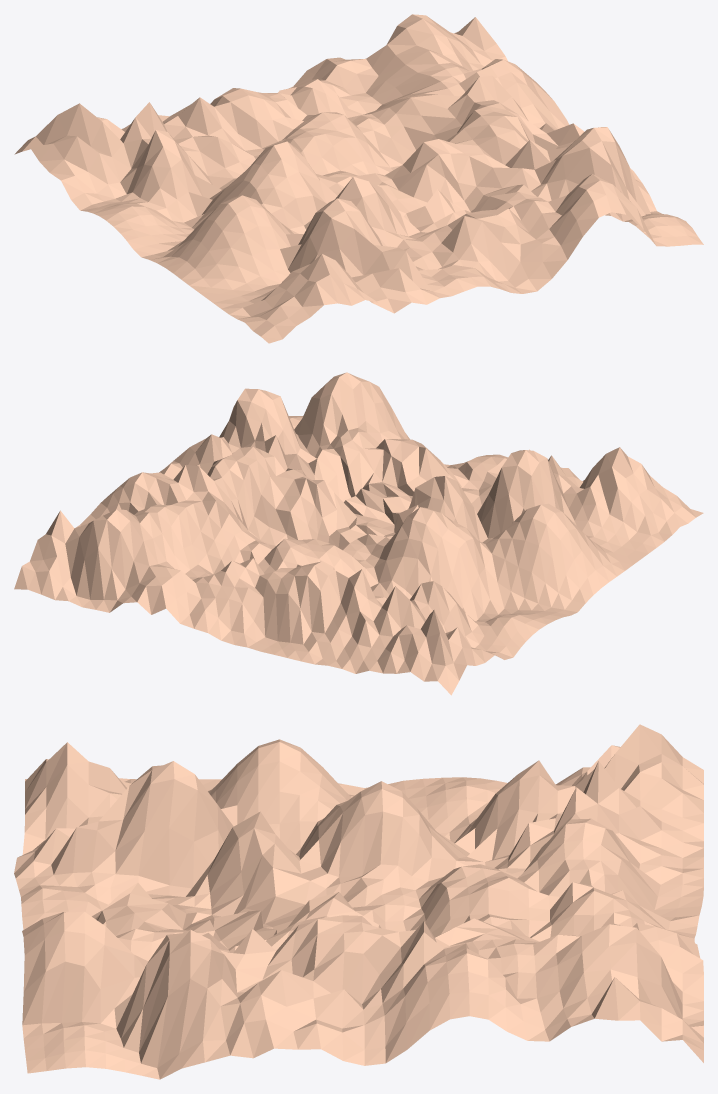
The model's file is terrain.gltf.
3 renders of one model, top to bottom at view 1: azimuth 30°, elevation 25°; view 2: azimuth 150°, elevation 25°; view 3: azimuth 270°, elevation 25°, orthographic. The views are drawn at different scales.
Visible parts, largest first — view 1: Plane; view 2: Plane; view 3: Plane.
Part boxes in pixels (x1,y1,x2,y2): Plane: (14, 14, 703, 343); Plane: (14, 372, 703, 695); Plane: (14, 724, 703, 1079).
Bounding box in the file's own units: 28.1 × 5.53 × 28.48.
